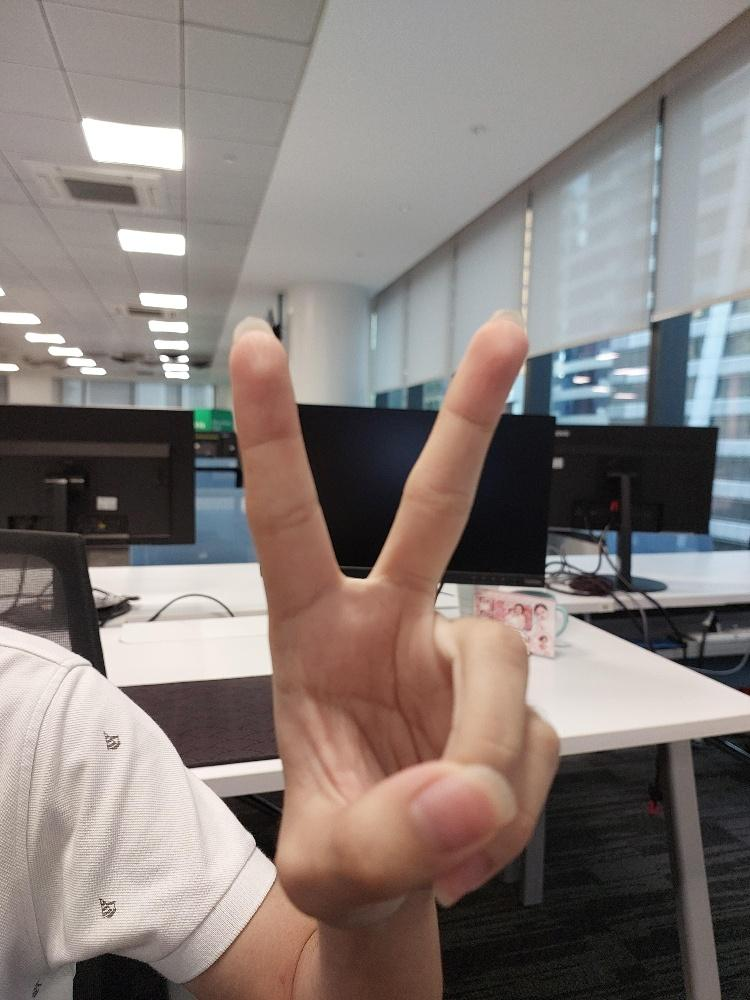v: (221, 306, 561, 929)
